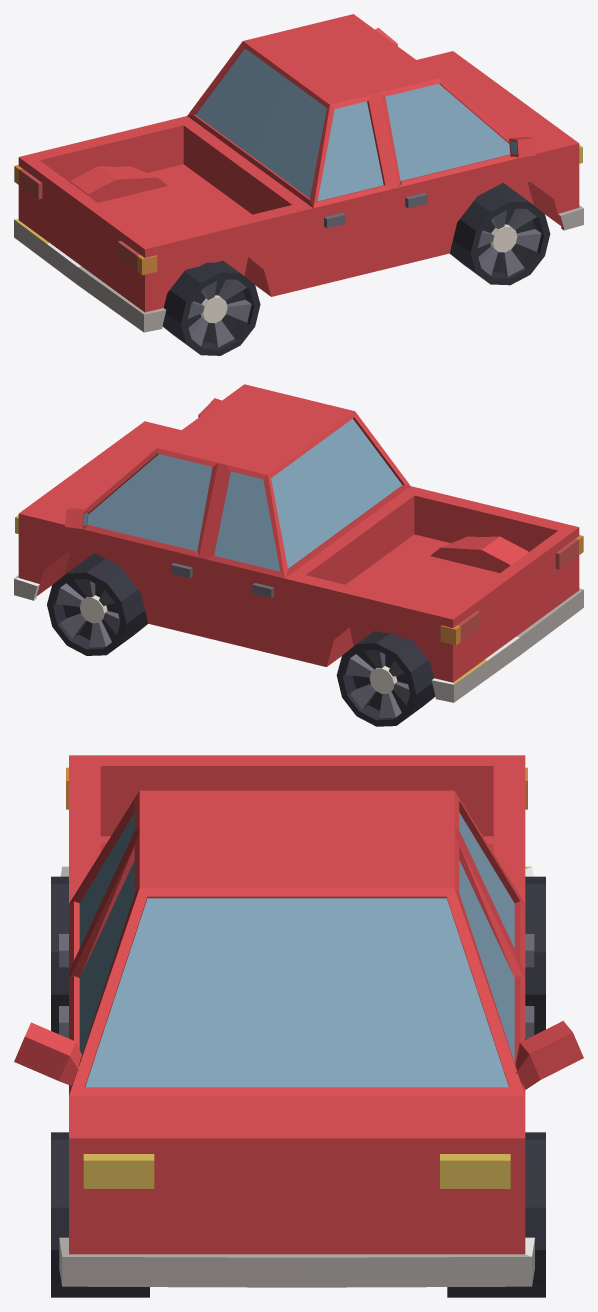
File: car5.fbx
The picture shows the model from 3 angles, top to bottom: view 1: azimuth 30°, elevation 25°; view 2: azimuth 150°, elevation 25°; view 3: azimuth 270°, elevation 25°; orthographic projection. The views are drawn at different scales.
Parts seen in each view (by area): view 1: Cylinder.001, Cylinder.011, Cylinder.008, Cylinder.007, Cylinder.006, Cylinder.004, Cylinder.010; view 2: Cylinder.001, Cylinder.011, Cylinder, Cylinder.002, Cylinder.004, Cylinder.006, Cylinder.009; view 3: Cylinder.011, Cylinder.001, Cylinder, Cylinder.008, Cylinder.009, Cylinder.002, Cylinder.010, Cylinder.005, Cylinder.003, Cylinder.007.
Part boxes in pixels (<box>): Cylinder.001: <box>14,51,583,332</box>; Cylinder.011: <box>187,14,522,208</box>; Cylinder.008: <box>449,183,550,285</box>; Cylinder.007: <box>162,260,260,355</box>; Cylinder.006: <box>117,241,157,275</box>; Cylinder.004: <box>14,165,42,199</box>; Cylinder.010: <box>509,137,535,157</box>; Cylinder.001: <box>14,421,583,702</box>; Cylinder.011: <box>82,384,410,578</box>; Cylinder: <box>47,553,148,655</box>; Cylinder.002: <box>336,631,435,726</box>; Cylinder.004: <box>440,611,480,645</box>; Cylinder.006: <box>555,535,583,569</box>; Cylinder.009: <box>65,508,88,528</box>; Cylinder.011: <box>69,790,525,1095</box>; Cylinder.001: <box>59,755,534,1287</box>; Cylinder: <box>447,1132,545,1297</box>; Cylinder.008: <box>51,1132,149,1297</box>; Cylinder.009: <box>515,1021,583,1089</box>; Cylinder.002: <box>525,876,545,1039</box>; Cylinder.010: <box>14,1022,81,1085</box>; Cylinder.005: <box>83,1154,154,1188</box>; Cylinder.003: <box>440,1154,510,1188</box>; Cylinder.007: <box>51,876,68,1034</box>.
Size of the model in its own units: 516 by 222 by 316.
